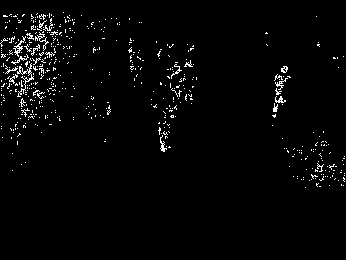person: (271, 63, 291, 118)
